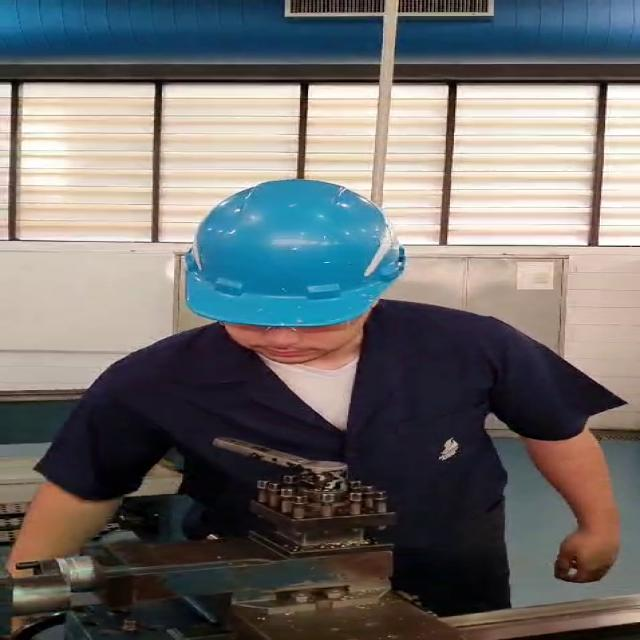oculos-epi: (217, 312, 366, 333)
